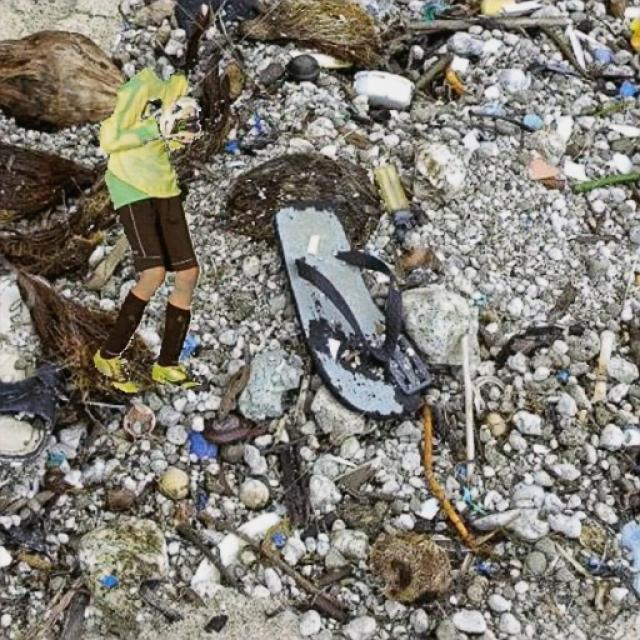Person in Rubble: (94, 68, 202, 392)
